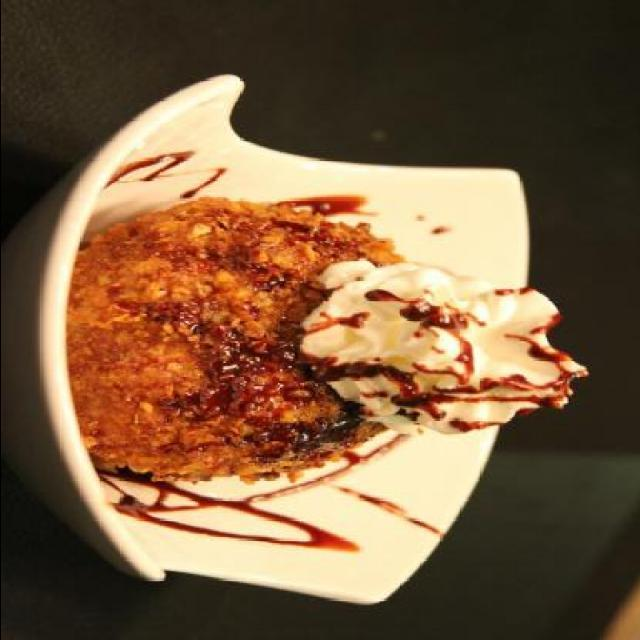Ice cream: (58, 173, 634, 493)
